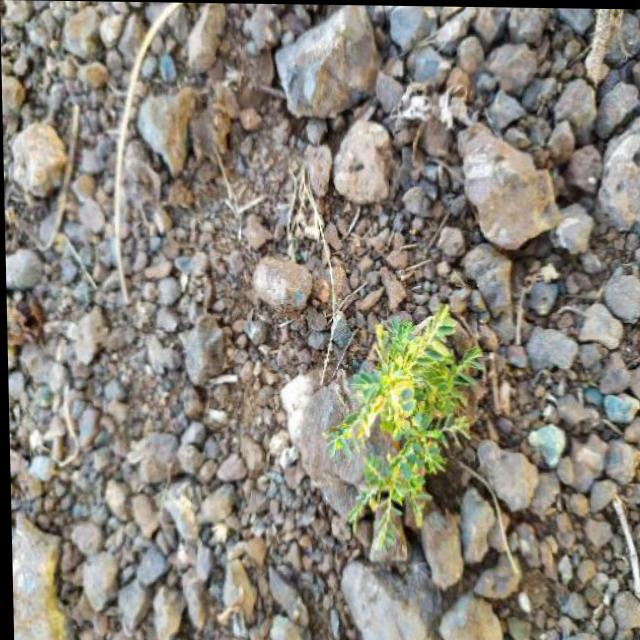weed: (298, 300, 506, 553)
